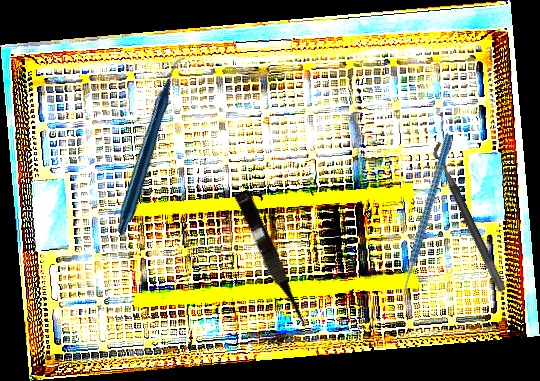Chopper: (351, 132, 506, 312)
Fixation Ring: (428, 135, 519, 294)
Handpiece: (56, 54, 249, 238)
Micro Scissor: (231, 188, 312, 333)
